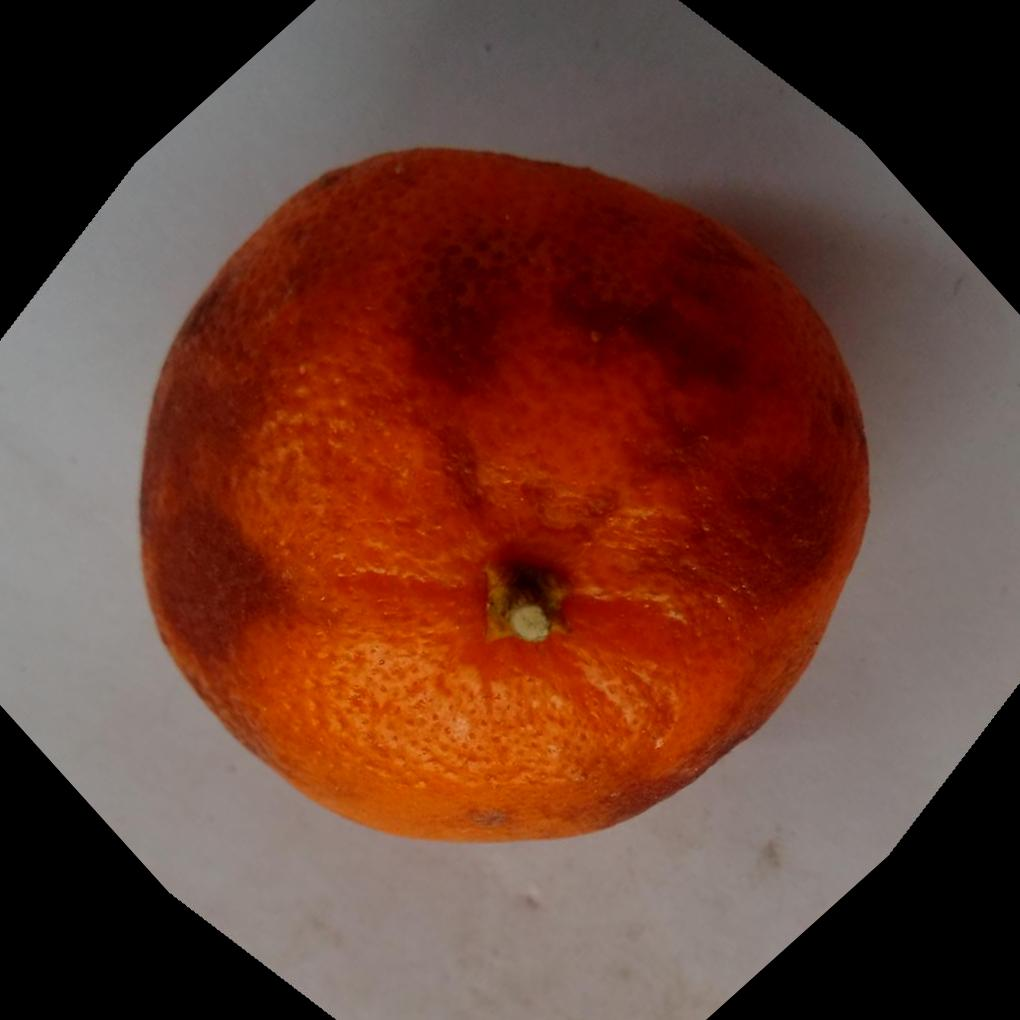FreshOrange: (133, 142, 871, 842)
